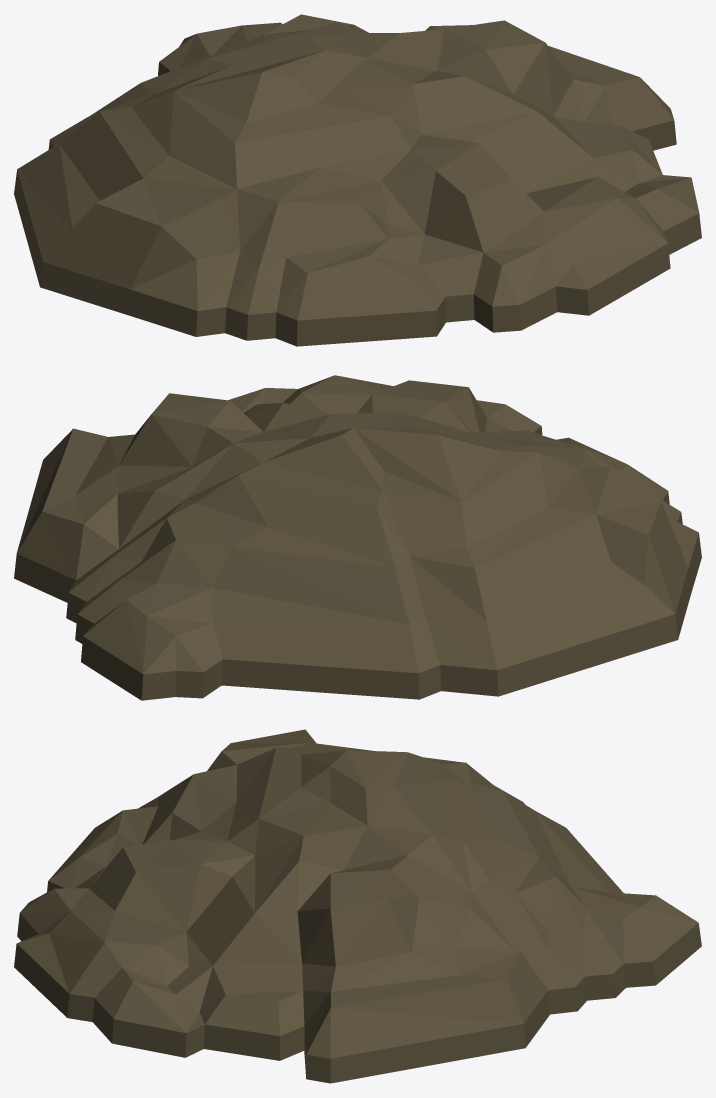
The model's file is rock__debris1_medium.glb.
3 renders of one model, top to bottom at view 1: azimuth 30°, elevation 25°; view 2: azimuth 150°, elevation 25°; view 3: azimuth 270°, elevation 25°, orthographic. The views are drawn at different scales.
Visible parts, largest first — view 1: debris1.medium; view 2: debris1.medium; view 3: debris1.medium.
Part boxes in pixels (x1,y1,x2,y2): debris1.medium: [14, 14, 701, 346]; debris1.medium: [14, 375, 701, 700]; debris1.medium: [14, 729, 701, 1083].
Size of the model in its own units: 5.49 by 1.27 by 5.43.
1 material, 1 textured.
